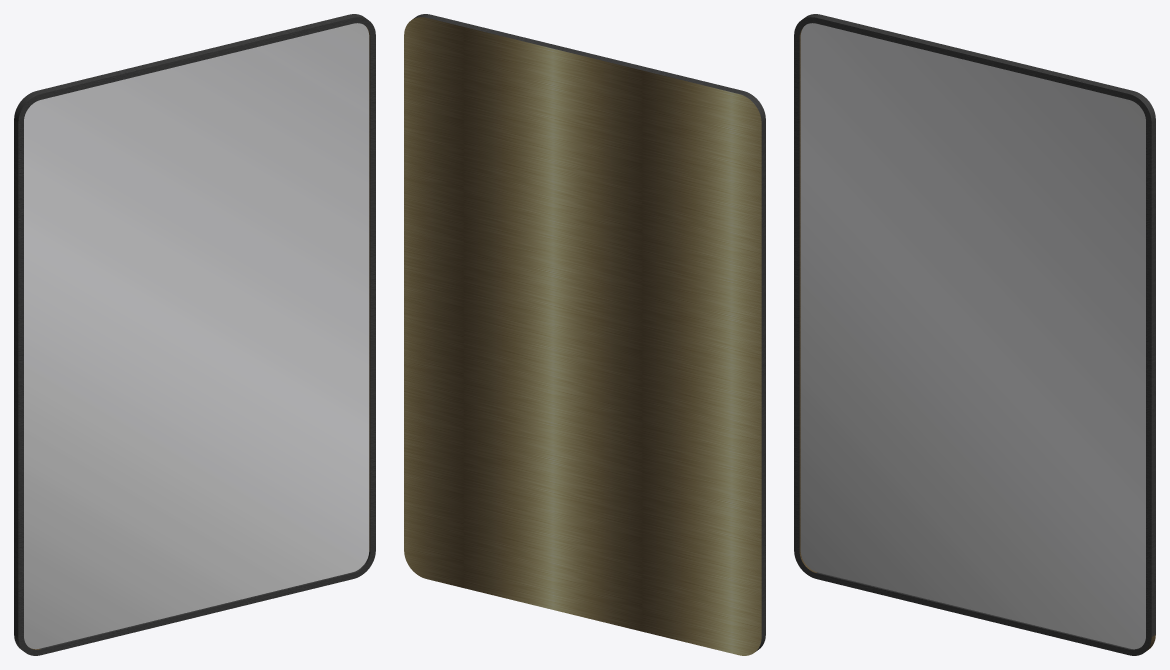
Rendered from Plate Miror.fbx.
3 views of the same model, side by side, from view 1: azimuth 30°, elevation 25°; view 2: azimuth 150°, elevation 25°; view 3: azimuth 330°, elevation 25° (orthographic).
Visible parts, largest first — view 1: Group1; view 2: Group1; view 3: Group1.
Boxes of the visible parts, box(x1,y1,x2,y2) form: Group1: box(14, 14, 375, 655); Group1: box(404, 14, 765, 655); Group1: box(794, 14, 1155, 655).
Size of the model in its own units: 60.96 by 91.44 by 1.27.
